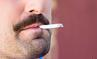smoke: (38, 22, 62, 28)
